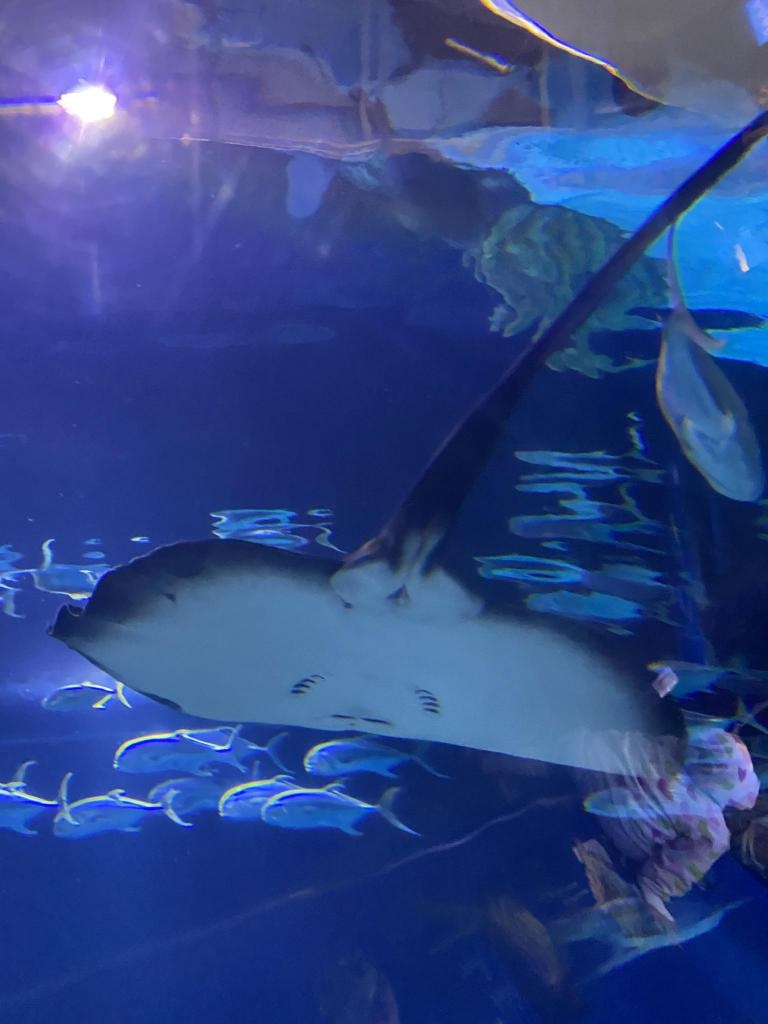fish: (657, 218, 767, 500), (261, 784, 425, 836), (55, 786, 194, 840), (305, 732, 453, 780), (113, 725, 244, 775), (187, 725, 296, 775), (1, 772, 80, 834), (220, 774, 308, 824), (40, 679, 132, 711)
stingray: (52, 534, 688, 780)
